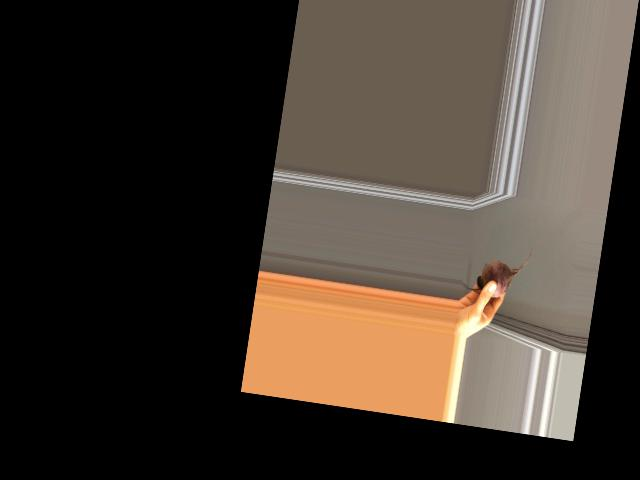beet: (459, 236, 532, 301)
